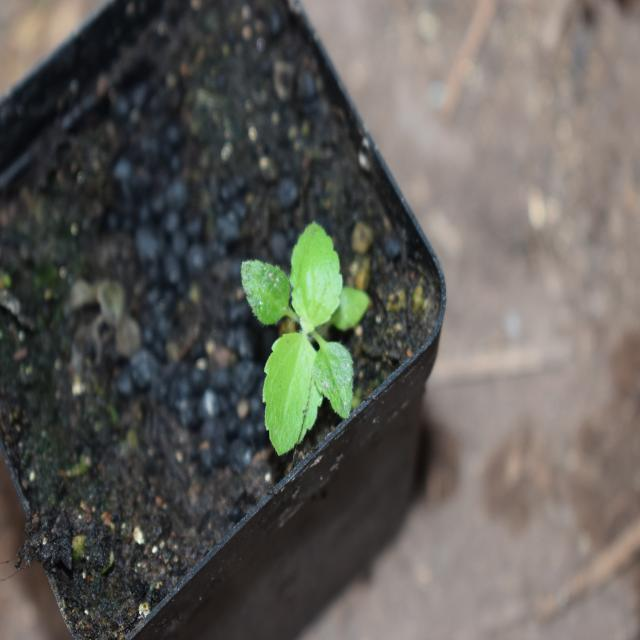billygoat_weed: (238, 204, 366, 464)
